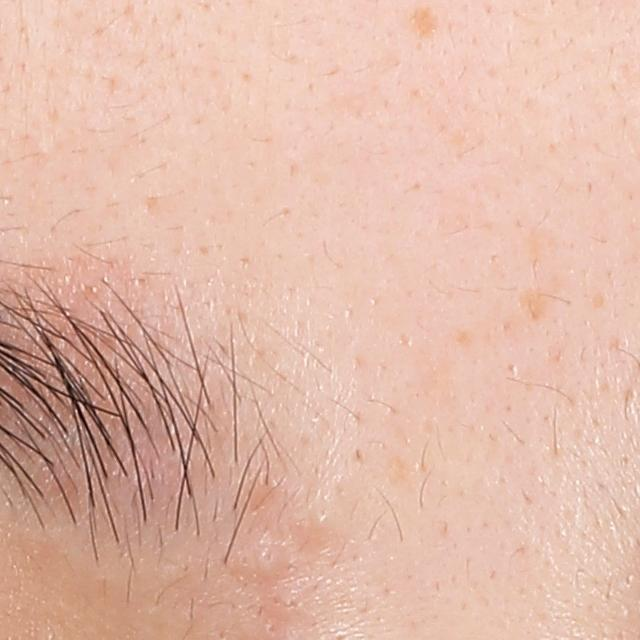comedo: (311, 509, 325, 530)
